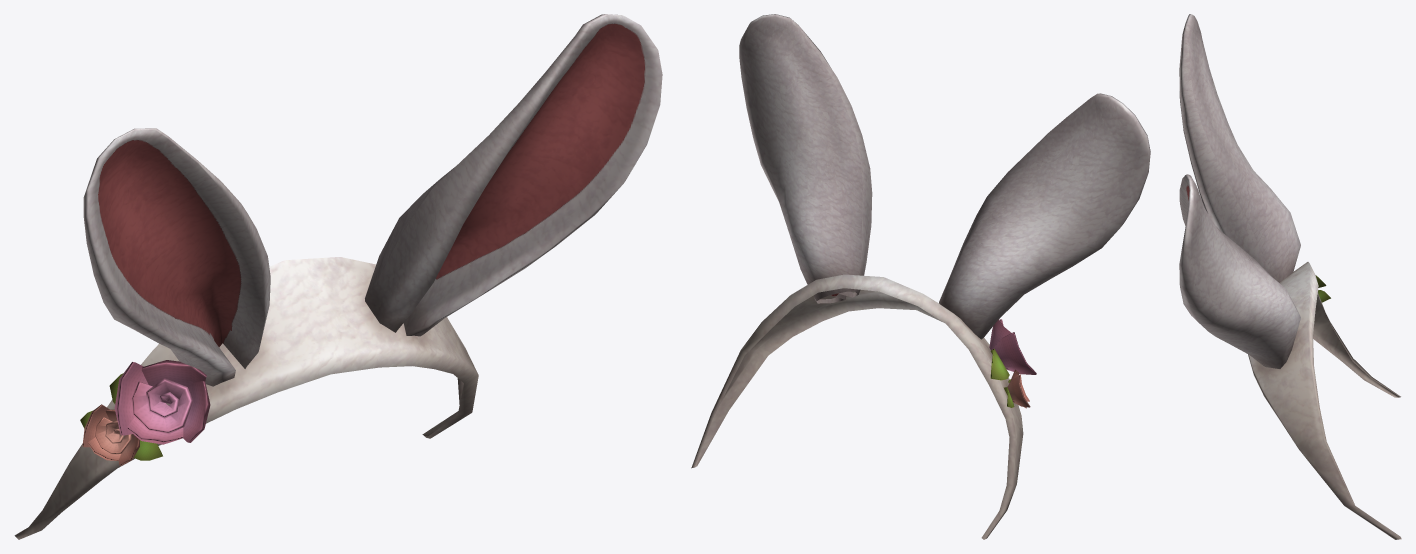
The model's file is Bunnyband.fbx.
The picture shows the model from 3 angles, left to right: view 1: azimuth 30°, elevation 25°; view 2: azimuth 150°, elevation 25°; view 3: azimuth 270°, elevation 25°; orthographic projection. The views are drawn at different scales.
Visible parts, largest first — view 1: Bunnyband; view 2: Bunnyband; view 3: Bunnyband.
Boxes of the visible parts, left/top/right/bottom form: Bunnyband: left=14, top=14, right=662, bottom=539; Bunnyband: left=691, top=14, right=1150, bottom=539; Bunnyband: left=1179, top=14, right=1401, bottom=539.
Size of the model in its own units: 1.63 by 1.41 by 0.764.
